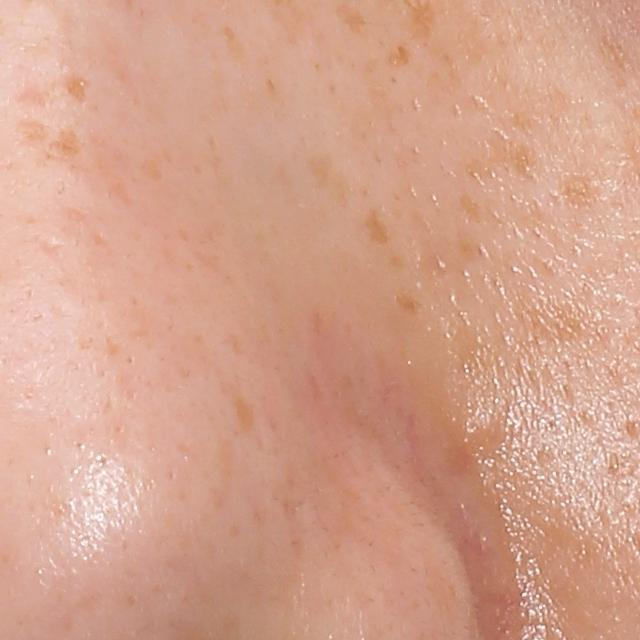melasma: (470, 126, 541, 186), (521, 297, 604, 347), (297, 150, 358, 209), (556, 170, 606, 216), (359, 204, 395, 247), (334, 0, 371, 38), (233, 393, 262, 438), (58, 72, 94, 108), (136, 148, 167, 187), (383, 41, 418, 73), (391, 289, 427, 317), (458, 188, 485, 224)
